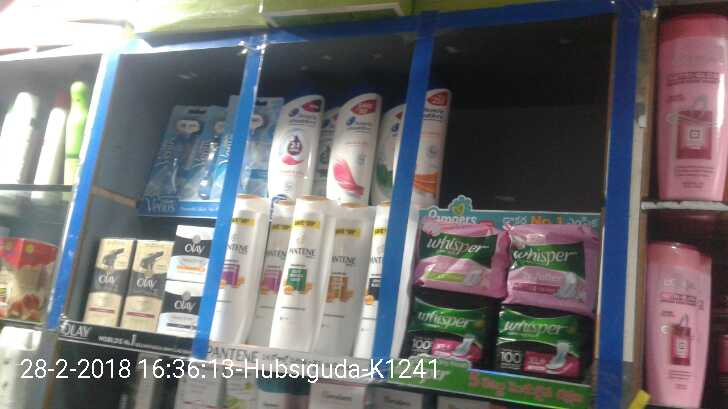venus: (223, 97, 273, 197), (147, 102, 199, 196), (199, 102, 223, 197)
